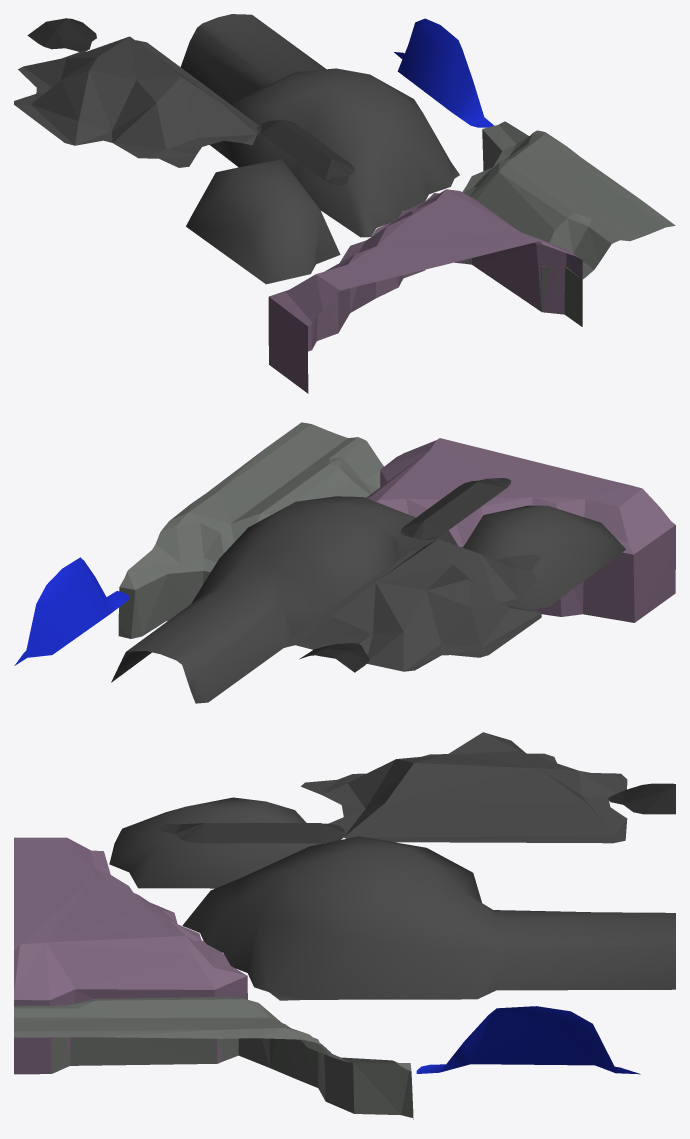
The model's file is newshb-77.glb.
3 renders of one model, top to bottom at view 1: azimuth 30°, elevation 25°; view 2: azimuth 150°, elevation 25°; view 3: azimuth 270°, elevation 25°, orthographic. The views are drawn at different scales.
Visible parts, largest first — view 1: newshb-77; view 2: newshb-77; view 3: newshb-77.
Part boxes in pixels (x1,y1,x2,y2): newshb-77: (14, 14, 675, 393); newshb-77: (14, 422, 675, 703); newshb-77: (14, 732, 675, 1119).
Bounding box in the file's own units: 1.91 × 0.7444 × 2.33.
